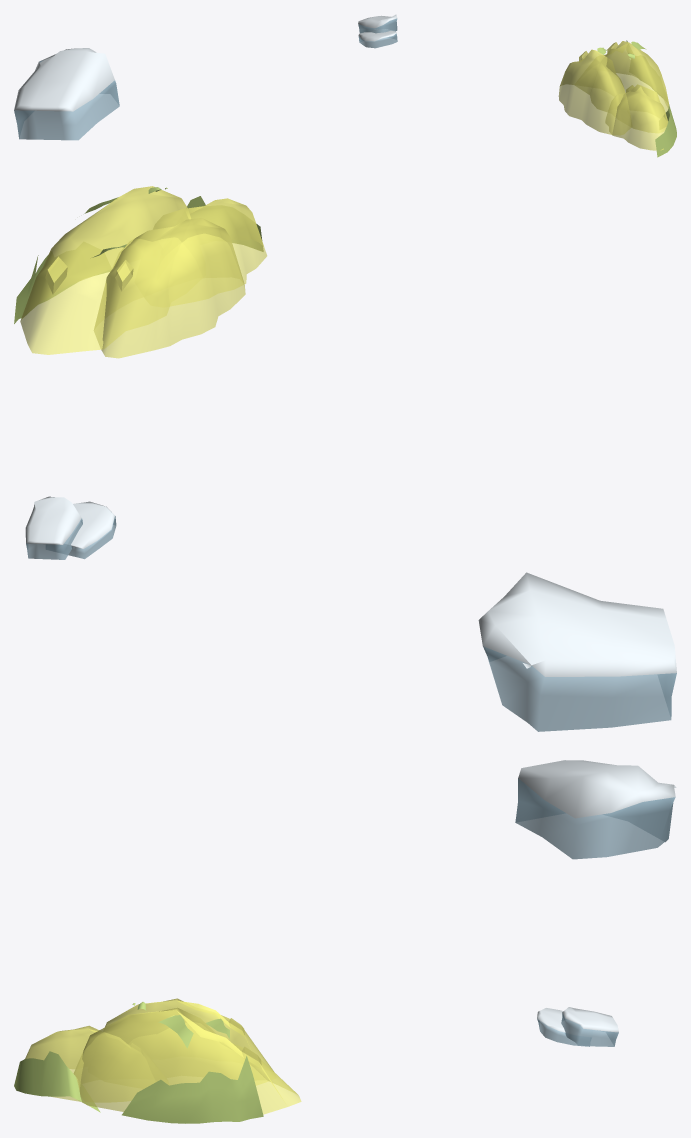
The model's file is AirportAssets02.fbx.
3 renders of one model, top to bottom at view 1: azimuth 30°, elevation 25°; view 2: azimuth 150°, elevation 25°; view 3: azimuth 270°, elevation 25°, orthographic. The views are drawn at different scales.
Parts seen in each view (by area): view 1: rock01_OBJ, pasted__pCube3, pasted__pCube2, pasted__pCube1, pCube11, pCube10, pasted__pCube4; view 2: rock01_OBJ, pasted__pCube3, pasted__pCube2, pasted__pCube1, pCube11, pCube10; view 3: rock01_OBJ, pasted__pCube3, pasted__pCube2, pasted__pCube1, pasted__pCube8, pasted__pCube4, pCube11, pCube10.
Boxes of the visible parts, bbox=[...] form: rock01_OBJ: bbox=[14, 48, 119, 140]; pasted__pCube3: bbox=[575, 41, 668, 132]; pasted__pCube2: bbox=[558, 49, 630, 134]; pasted__pCube1: bbox=[606, 84, 668, 150]; pCube11: bbox=[358, 14, 397, 33]; pCube10: bbox=[358, 30, 397, 48]; pasted__pCube4: bbox=[655, 104, 676, 157]; rock01_OBJ: bbox=[478, 572, 676, 731]; pasted__pCube3: bbox=[20, 186, 190, 354]; pasted__pCube2: bbox=[94, 218, 245, 358]; pasted__pCube1: bbox=[153, 198, 267, 305]; pCube11: bbox=[25, 496, 82, 559]; pCube10: bbox=[46, 501, 116, 559]; rock01_OBJ: bbox=[515, 760, 676, 859]; pasted__pCube3: bbox=[74, 1007, 301, 1114]; pasted__pCube2: bbox=[105, 998, 273, 1084]; pasted__pCube1: bbox=[15, 1025, 155, 1101]; pasted__pCube8: bbox=[122, 1056, 263, 1123]; pasted__pCube4: bbox=[14, 1051, 100, 1112]; pCube11: bbox=[561, 1007, 618, 1046]; pCube10: bbox=[537, 1008, 592, 1046].
Size of the model in its own units: 44.78 by 7.43 by 35.62.
